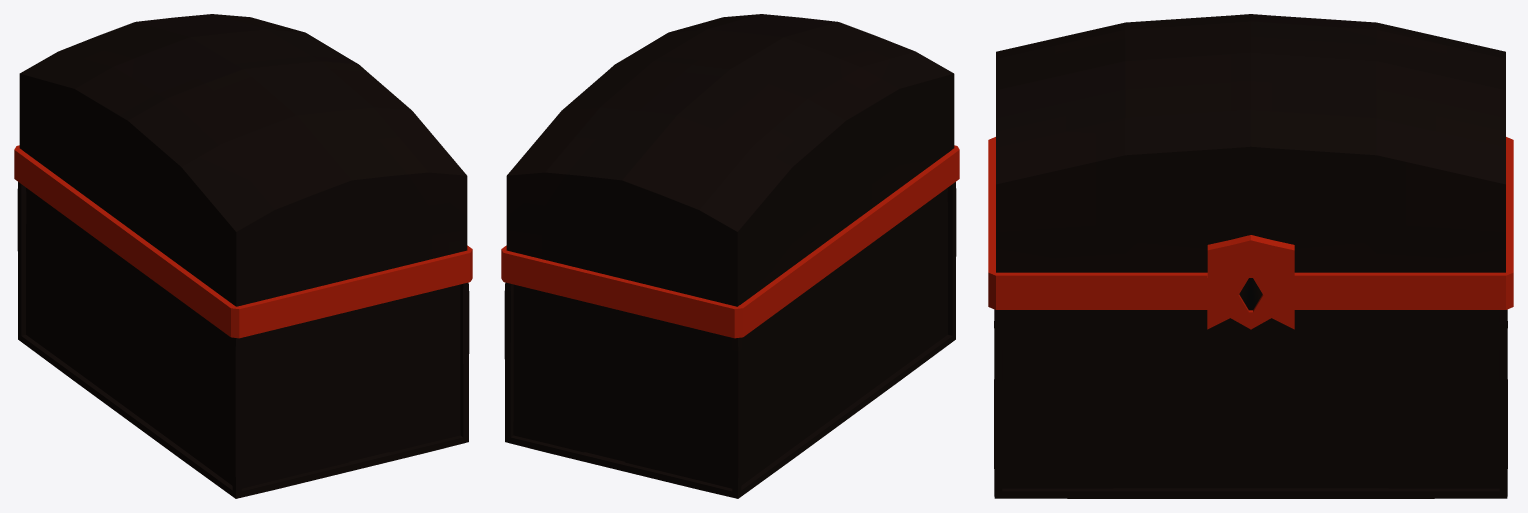
Rendered from chest.fbx.
3 renders of one model, left to right at view 1: azimuth 30°, elevation 25°; view 2: azimuth 150°, elevation 25°; view 3: azimuth 270°, elevation 25°, orthographic. The views are drawn at different scales.
Visible parts, largest first — view 1: chestTop.001, chest.002; view 2: chestTop.001, chest.002; view 3: chestTop.001, chest.002.
Part boxes in pixels (x1,y1,x2,y2): chestTop.001: (19,14,467,306); chest.002: (14,145,472,498); chestTop.001: (506,14,954,306); chest.002: (501,145,959,498); chestTop.001: (996,14,1505,277); chest.002: (988,137,1513,498).
Bounding box in the file's own units: 135 × 169 × 212.
